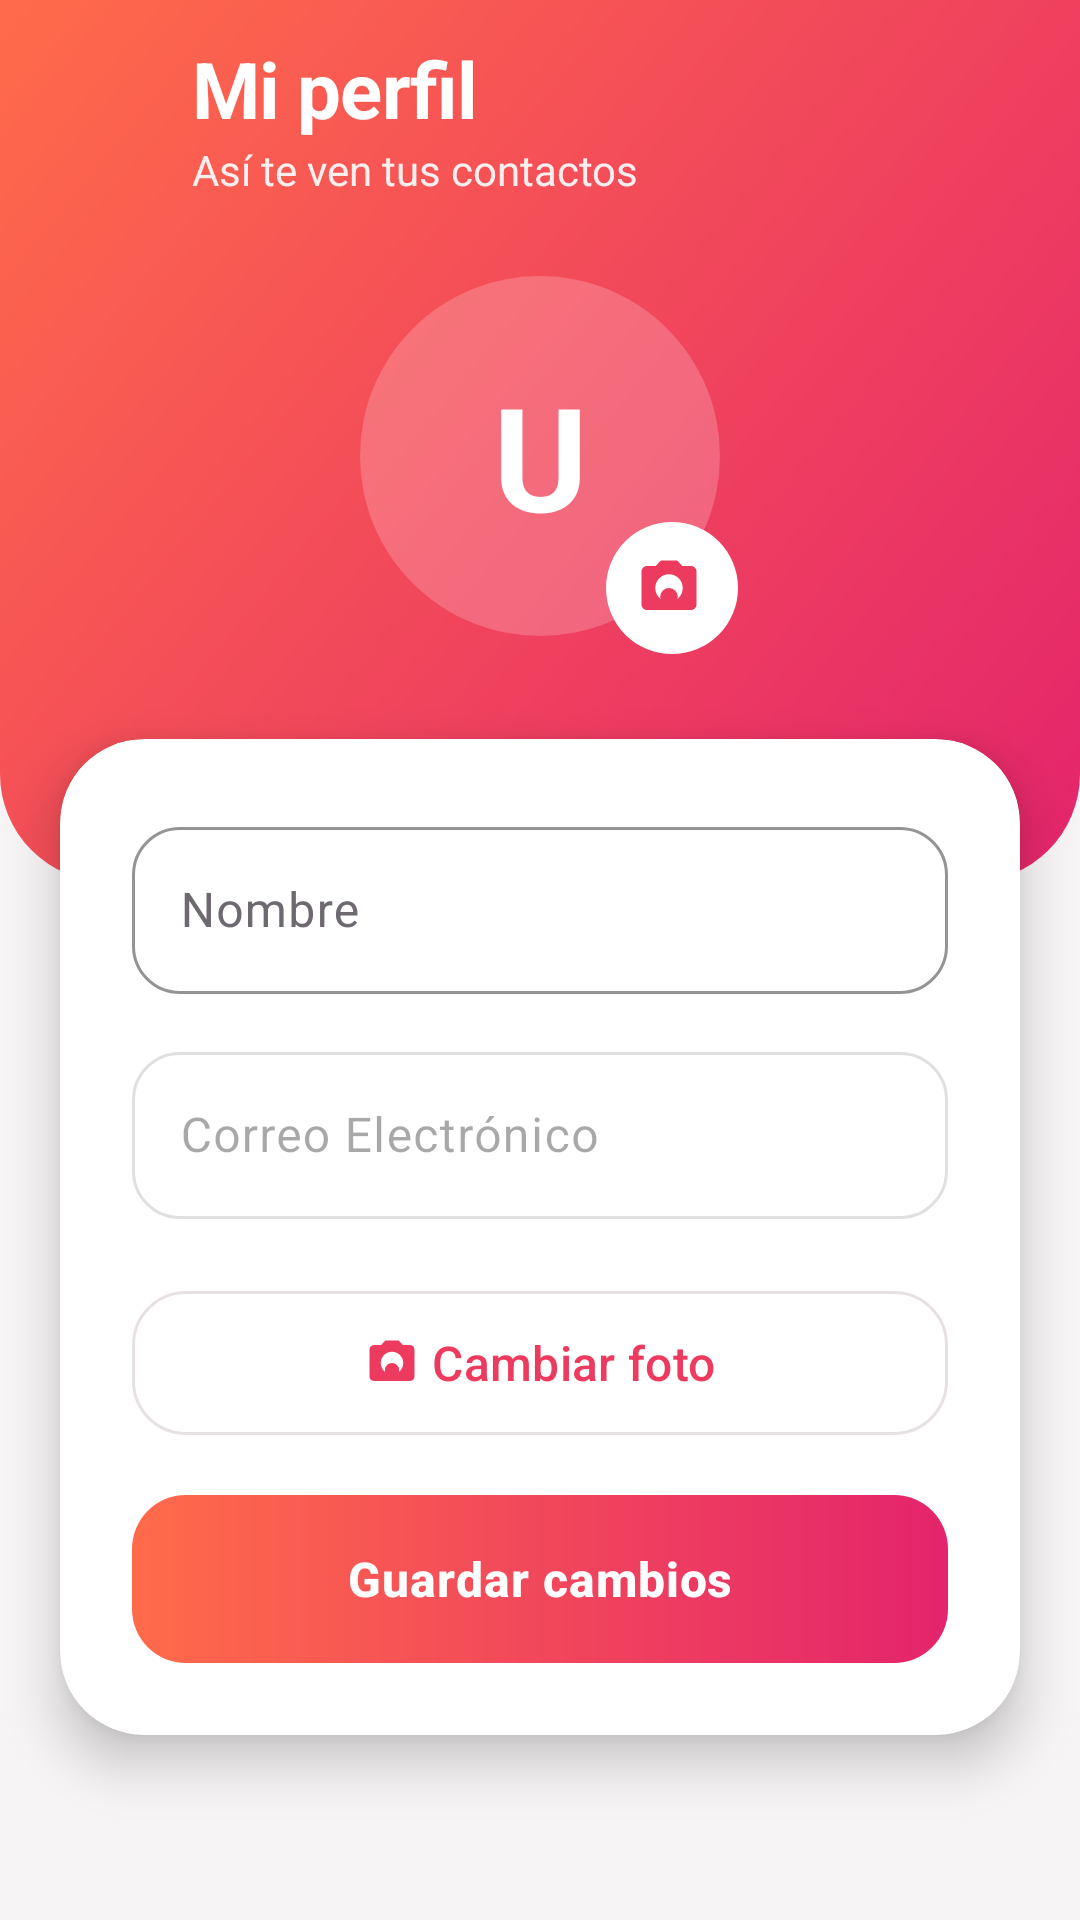

Icons on this 1080w x 1920h Android screen, each with its box as (x1, y1, x2, y2):
Cambiar foto: (606, 522, 738, 654)
